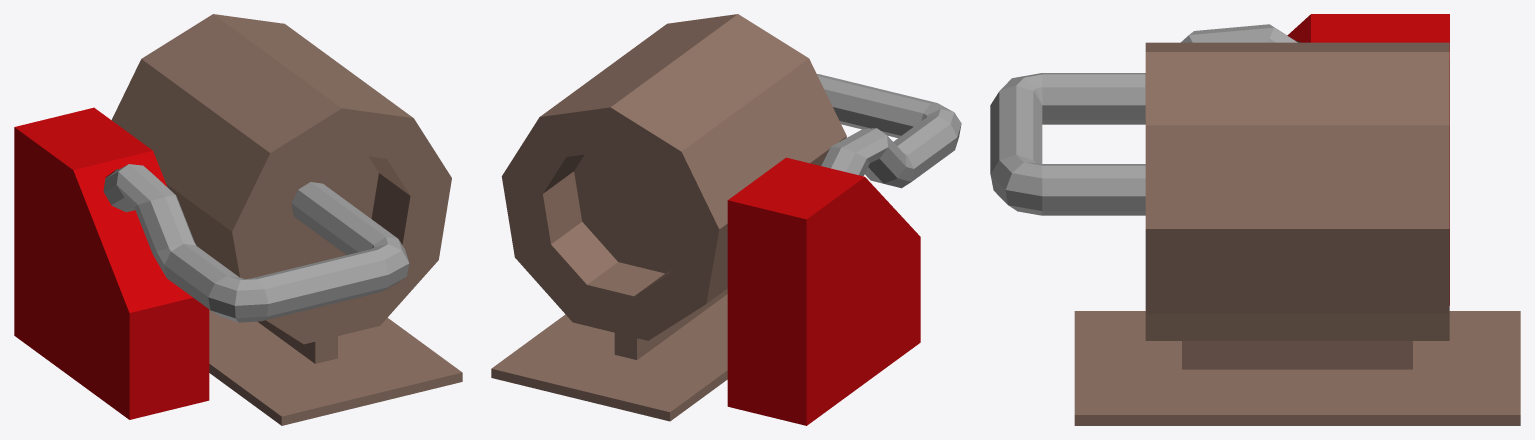
Rendered from Gas Generator.fbx.
3 views of the same model, side by side, from view 1: azimuth 30°, elevation 25°; view 2: azimuth 150°, elevation 25°; view 3: azimuth 270°, elevation 25° (orthographic). The views are drawn at different scales.
Parts seen in each view (by area): view 1: Gas Generator; view 2: Gas Generator; view 3: Gas Generator.
Boxes of the visible parts, <box> form: Gas Generator: <box>14,14,462,425</box>; Gas Generator: <box>491,14,961,425</box>; Gas Generator: <box>990,14,1520,425</box>.
Size of the model in its own units: 77.34 by 65.51 by 97.68.
